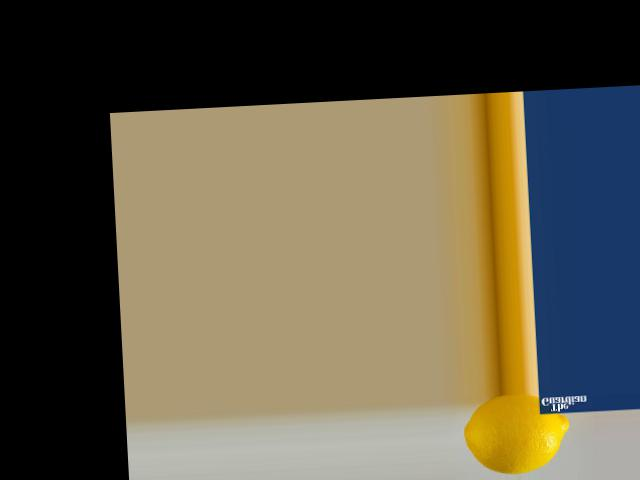lemon: (456, 390, 577, 476)
